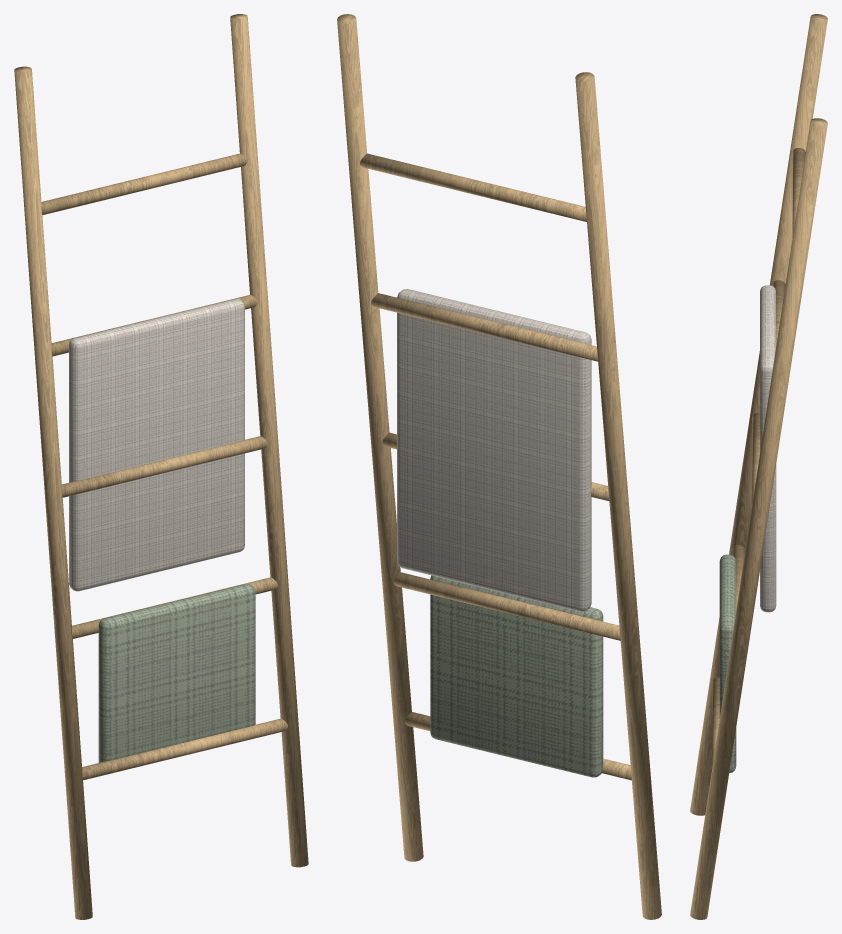
The model's file is towel-ladder.glb.
The picture shows the model from 3 angles, left to right: view 1: azimuth 30°, elevation 25°; view 2: azimuth 150°, elevation 25°; view 3: azimuth 270°, elevation 25°; orthographic projection. The views are drawn at different scales.
Visible parts, largest first — view 1: towel1, towel2, rail, rail.001, rung.004, rung, rung.002, rung.001, rung.003; view 2: towel1, towel2, rail, rail.001, rung.001, rung.003, rung.004, rung; view 3: rail.001, rail, towel1, towel2, rung.004, rung.002, rung, rung.001, rung.003.
Boxes of the visible parts, box(x1,y1,x2,y2) form: towel1: box(69, 299, 244, 591); towel2: box(98, 584, 255, 762); rail: box(14, 66, 92, 919); rail.001: box(230, 14, 308, 867); rung.004: box(41, 153, 247, 215); rung: box(82, 718, 287, 780); rung.002: box(62, 436, 267, 497); rung.001: box(72, 577, 277, 638); rung.003: box(51, 294, 257, 356); towel1: box(397, 289, 591, 611); towel2: box(430, 575, 603, 777); rail: box(575, 72, 661, 919); rail.001: box(337, 14, 423, 861); rung.001: box(393, 572, 620, 640); rung.003: box(371, 293, 598, 361); rung.004: box(360, 153, 586, 221); rung: box(404, 712, 631, 780); rail.001: box(690, 118, 827, 919); rail: box(690, 14, 827, 815); towel1: box(760, 285, 776, 612); towel2: box(719, 554, 736, 772); rung.004: box(792, 148, 805, 237); rung.002: box(752, 412, 759, 503); rung: box(712, 677, 719, 766); rung.001: box(732, 545, 745, 612); rung.003: box(772, 280, 785, 347).
Size of the model in its own units: 0.482 by 1.6 by 0.2517.
3 materials, 3 textured.
